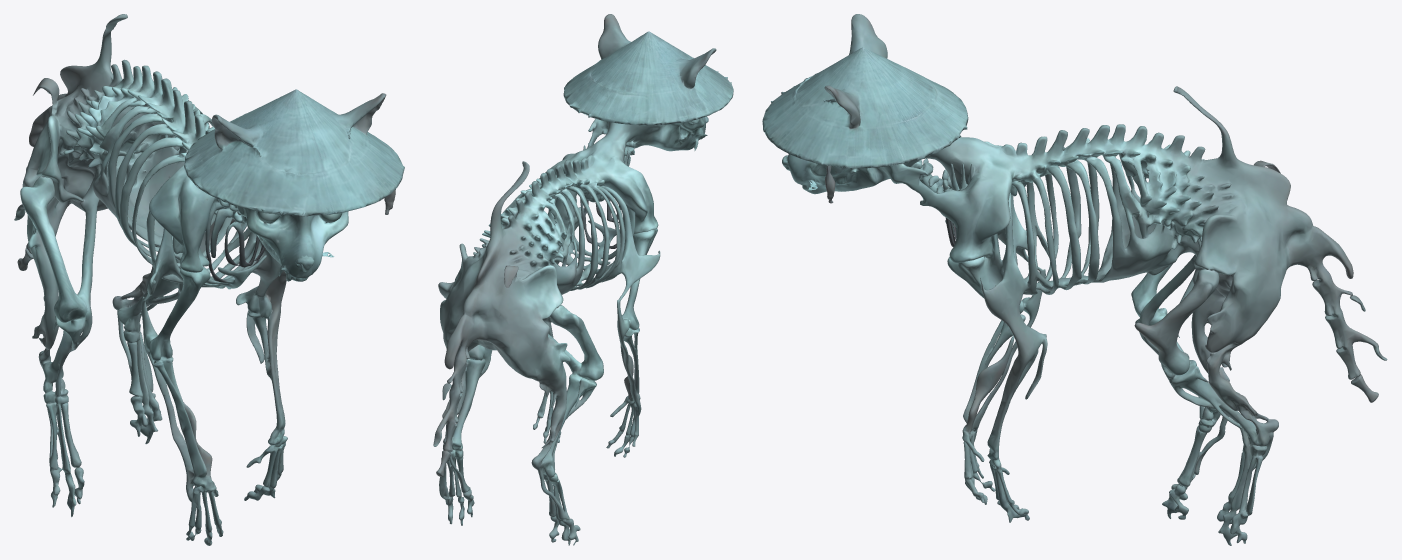
File: vong-linh-meo-hoang.glb
The picture shows the model from 3 angles, left to right: view 1: azimuth 30°, elevation 25°; view 2: azimuth 150°, elevation 25°; view 3: azimuth 270°, elevation 25°; orthographic projection. The views are drawn at different scales.
Parts seen in each view (by area): view 1: tripo_node_26ae3e11-047e-4b2b-a65f-5aaa7eb24f29; view 2: tripo_node_26ae3e11-047e-4b2b-a65f-5aaa7eb24f29; view 3: tripo_node_26ae3e11-047e-4b2b-a65f-5aaa7eb24f29.
Boxes of the visible parts, x1,y1,x2,y2 form: tripo_node_26ae3e11-047e-4b2b-a65f-5aaa7eb24f29: (14, 14, 404, 545); tripo_node_26ae3e11-047e-4b2b-a65f-5aaa7eb24f29: (433, 14, 733, 545); tripo_node_26ae3e11-047e-4b2b-a65f-5aaa7eb24f29: (762, 14, 1387, 545).
Size of the model in its own units: 0.286 by 0.7608 by 0.8627.
1 material, 1 textured.
